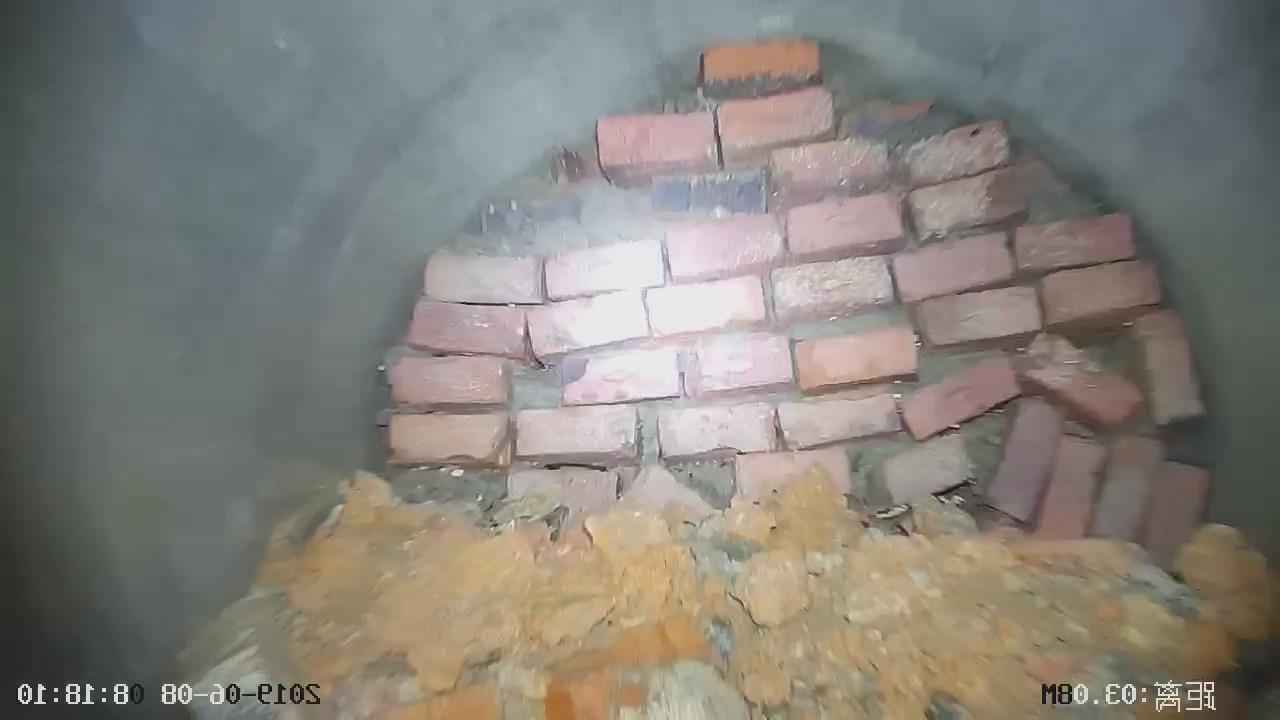CQBG: (388, 40, 1210, 565)
